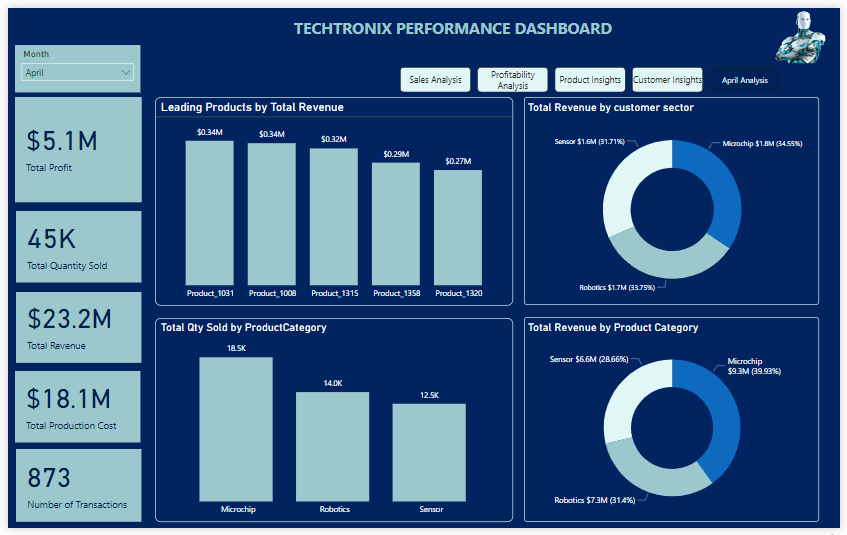

Layout of this report page (visuals, bound fields, positions):
{"tool":"powerbi","page":{"name":"April Analysis","canvas":[1280,800],"ordinal":4},"visuals":[{"type":"cardVisual","fields":{"Data":["Calculated Measures.Total Profit"]},"box":[10.1,137.4,194.9,161.6],"z":0},{"type":"pageNavigator","box":[603.2,90.5,587.3,39.7],"z":1000},{"type":"cardVisual","fields":{"Data":["Calculated Measures.Total Qty Sold"]},"box":[11.9,311.9,192.5,110.4],"z":2000},{"type":"cardVisual","fields":{"Data":["Calculated Measures.Number of Transactions"]},"box":[12.1,677.8,192.9,112.1],"z":3000},{"type":"cardVisual","fields":{"Data":["Calculated Measures.Total sales"]},"box":[11.9,437.3,192.5,109],"z":4000},{"type":"cardVisual","fields":{"Data":["Calculated Measures.Total Production Cost"]},"box":[10.4,558.2,192.5,110.4],"z":5000},{"type":"textbox","box":[144.8,9,1079.1,49.3],"z":6000},{"type":"clusteredColumnChart","title":"Leading Products by Total Revenue","fields":{"Y":["Calculated Measures.Total sales"],"Category":["Product Dim.ProductName"]},"box":[225.4,136.5,550.8,320.6],"z":7000},{"type":"donutChart","title":"Total Revenue by Product Category","fields":{"Y":["Calculated Measures.Total sales"],"Category":["Product Dim.ProductCategory"]},"box":[793.8,475.4,453.8,315.4],"z":8000},{"type":"slicer","fields":{"Values":["Calendar Dim.Month"]},"box":[10,57,193,73],"z":9000},{"type":"donutChart","title":"Total Revenue by customer sector","fields":{"Y":["Calculated Measures.Total Profit"],"Category":["Product Dim.ProductCategory"]},"box":[793.8,136.9,453.8,320],"z":10000},{"type":"clusteredColumnChart","fields":{"Category":["Product Dim.ProductCategory"],"Y":["Calculated Measures.Total Qty Sold"]},"box":[225.4,476.2,550.8,314.3],"z":11000},{"type":"image","box":[1158.6,0,121.2,89.9],"z":13000}]}

Visuals, with their boxes in screenshot pixels (x1, y1, x2, y2), scaled from the page's 1280x800 canvas onto the 847x535 screenshot:
cardVisual - Calculated Measures.Total Profit: select_region(7, 92, 136, 200)
pageNavigator: select_region(399, 61, 788, 87)
cardVisual - Calculated Measures.Total Qty Sold: select_region(8, 209, 135, 282)
cardVisual - Calculated Measures.Number of Transactions: select_region(8, 453, 136, 528)
cardVisual - Calculated Measures.Total sales: select_region(8, 292, 135, 365)
cardVisual - Calculated Measures.Total Production Cost: select_region(7, 373, 134, 447)
textbox: select_region(96, 6, 810, 39)
"Leading Products by Total Revenue" clusteredColumnChart: select_region(149, 91, 514, 306)
"Total Revenue by Product Category" donutChart: select_region(525, 318, 826, 529)
slicer - Calendar Dim.Month: select_region(7, 38, 134, 87)
"Total Revenue by customer sector" donutChart: select_region(525, 92, 826, 306)
clusteredColumnChart - Product Dim.ProductCategory x Calculated Measures.Total Qty Sold: select_region(149, 318, 514, 529)
image: select_region(767, 0, 846, 60)
